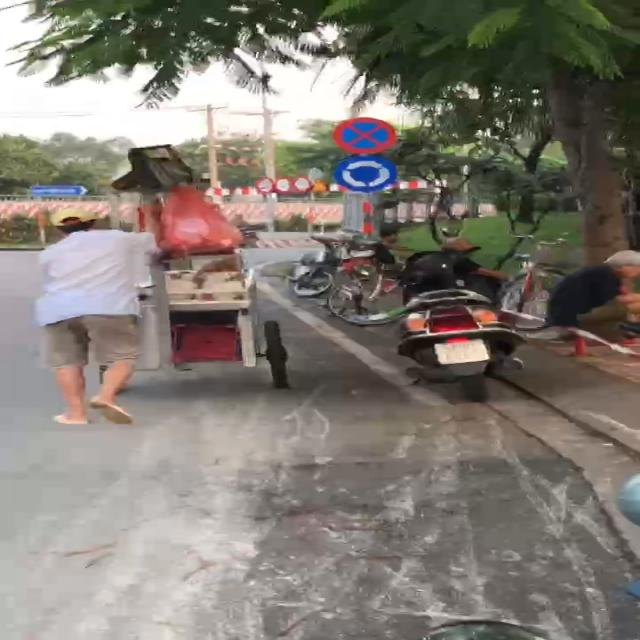Bien bao cam dung xe va do xe: (330, 112, 400, 156)
Bien bao noi giao nhau chay theo vong xuyen: (334, 154, 405, 194)
